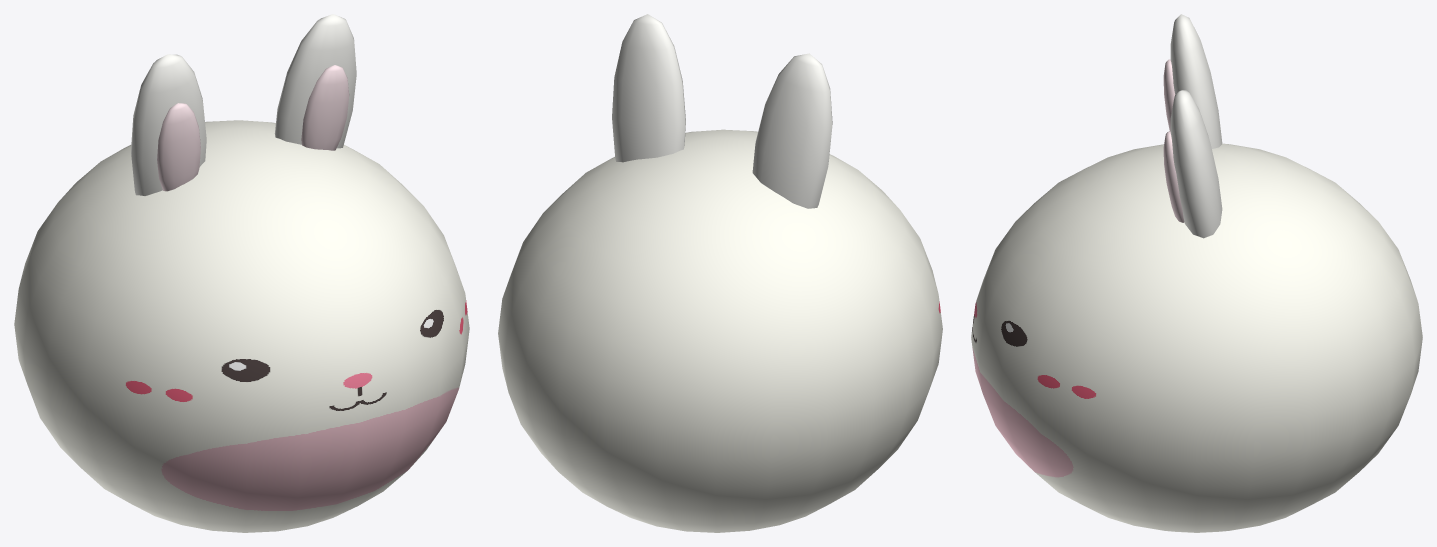
File: bunny.glb
3 views of the same model, side by side, from view 1: azimuth 30°, elevation 25°; view 2: azimuth 150°, elevation 25°; view 3: azimuth 270°, elevation 25° (orthographic). The views are drawn at different scales.
Visible parts, largest first — view 1: Bunny; view 2: Bunny; view 3: Bunny.
Boxes of the visible parts, bbox=[...] form: Bunny: bbox=[14, 14, 469, 532]; Bunny: bbox=[498, 14, 942, 532]; Bunny: bbox=[971, 14, 1422, 532].
Bounding box in the file's own units: 1.33 × 1.57 × 1.4.
Materials: 3 (1 with a texture image).
